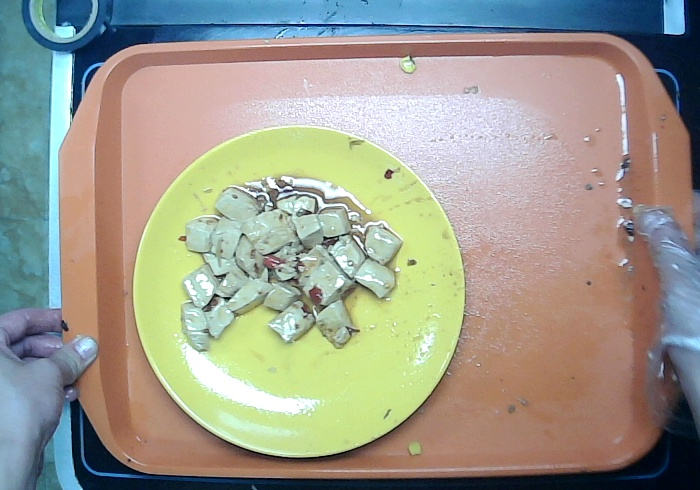HZYJPL-Huang_Se_Yuan_Pan: (126, 118, 473, 459)
